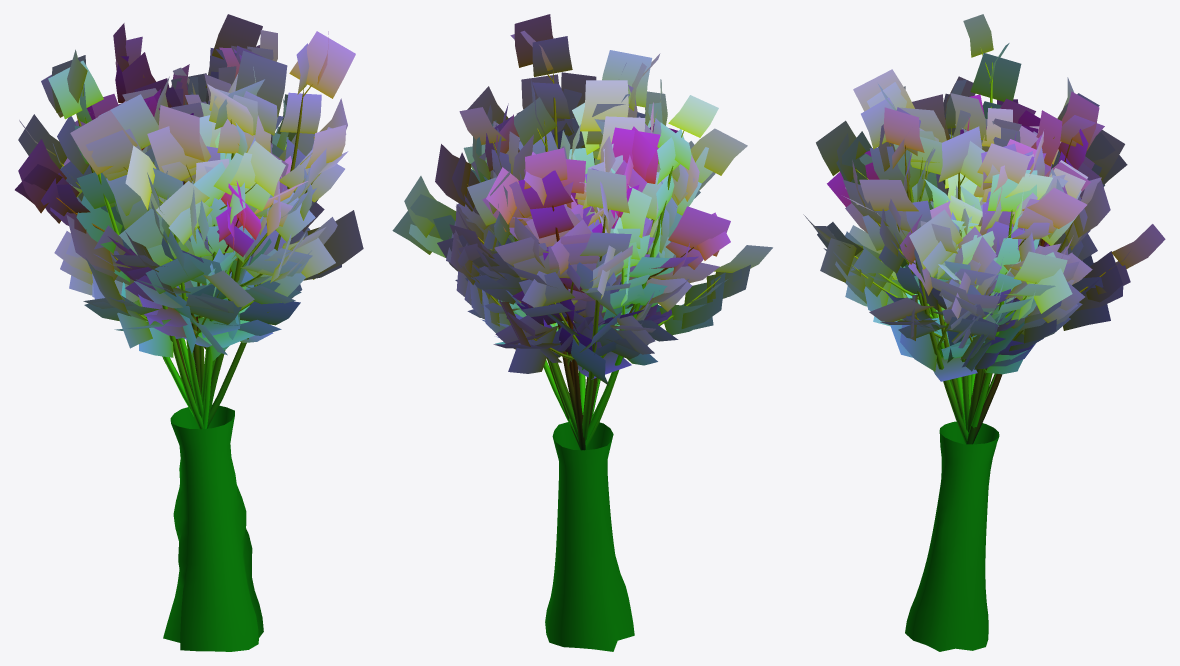
File: salix_alba_pollard.glb
3 views of the same model, side by side, from view 1: azimuth 30°, elevation 25°; view 2: azimuth 150°, elevation 25°; view 3: azimuth 270°, elevation 25° (orthographic). The views are drawn at different scales.
Visible parts, largest first — view 1: salix_alba_pollard_lod0; view 2: salix_alba_pollard_lod0; view 3: salix_alba_pollard_lod0.
Part boxes in pixels (x1,y1,x2,y2): salix_alba_pollard_lod0: (15,14,363,651); salix_alba_pollard_lod0: (392,14,772,651); salix_alba_pollard_lod0: (803,14,1165,651).
Size of what is drawn, in the model's own units: 3.95 by 7.26 by 4.22.
